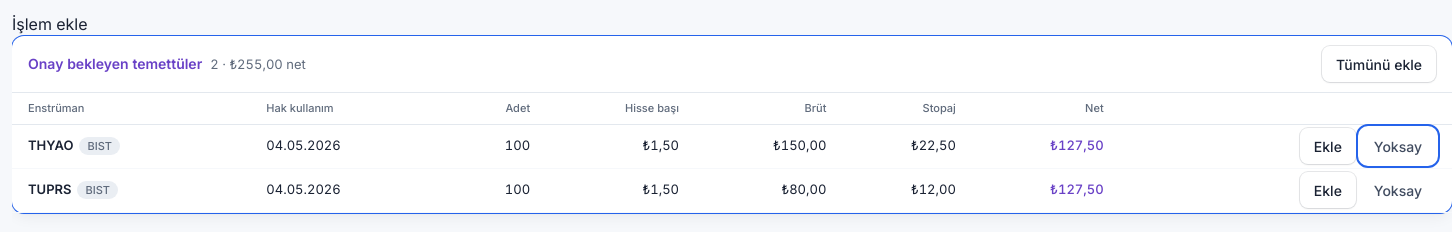
Scenario: ExpectedDividends › moves focus to the next suggestion after one is dismissed
The width and height of the screenshot is (1452, 232).
Expected: the heading "Onay bekleyen temettüler" is shown, [28,53,202,74]
Click the button with aria-label "THYAO 04.05.2026 temettüsünü yoksay".
click(1398, 146)  # box [1360,128,1436,164]
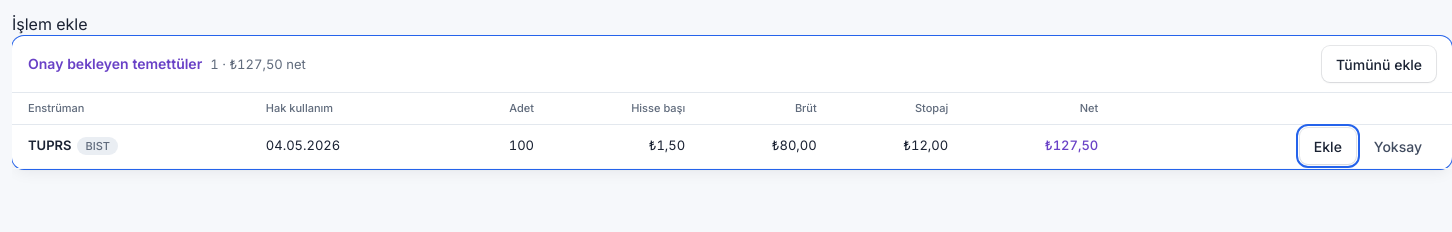
Now the text "THYAO" is gone
